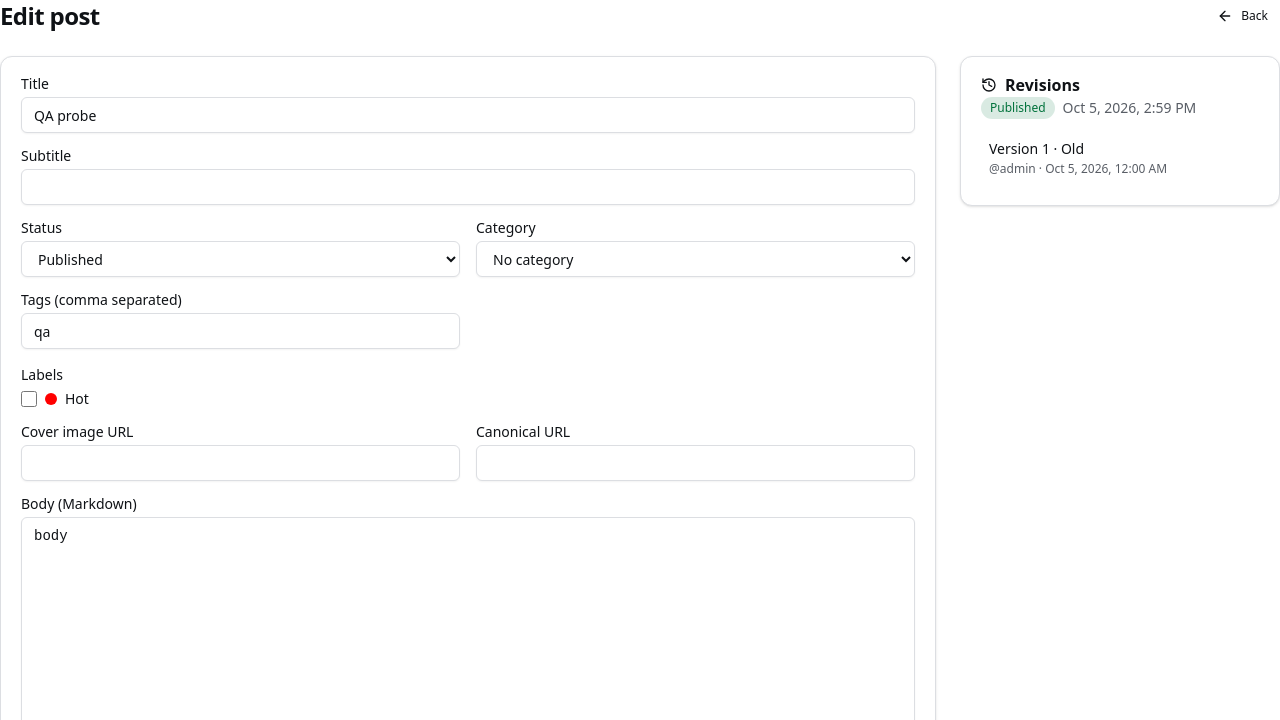
Test: PostEditorPage › edits, views a revision diff and restores it
This screenshot has width=1280, height=720.
expect the field showing "QA probe" is shown: met, box [21,97,915,133]
Click the button "Version 1 · Old @admin · Oct 5, 2026, 12:00 AM" at (1120, 158), box [981,131,1259,185]
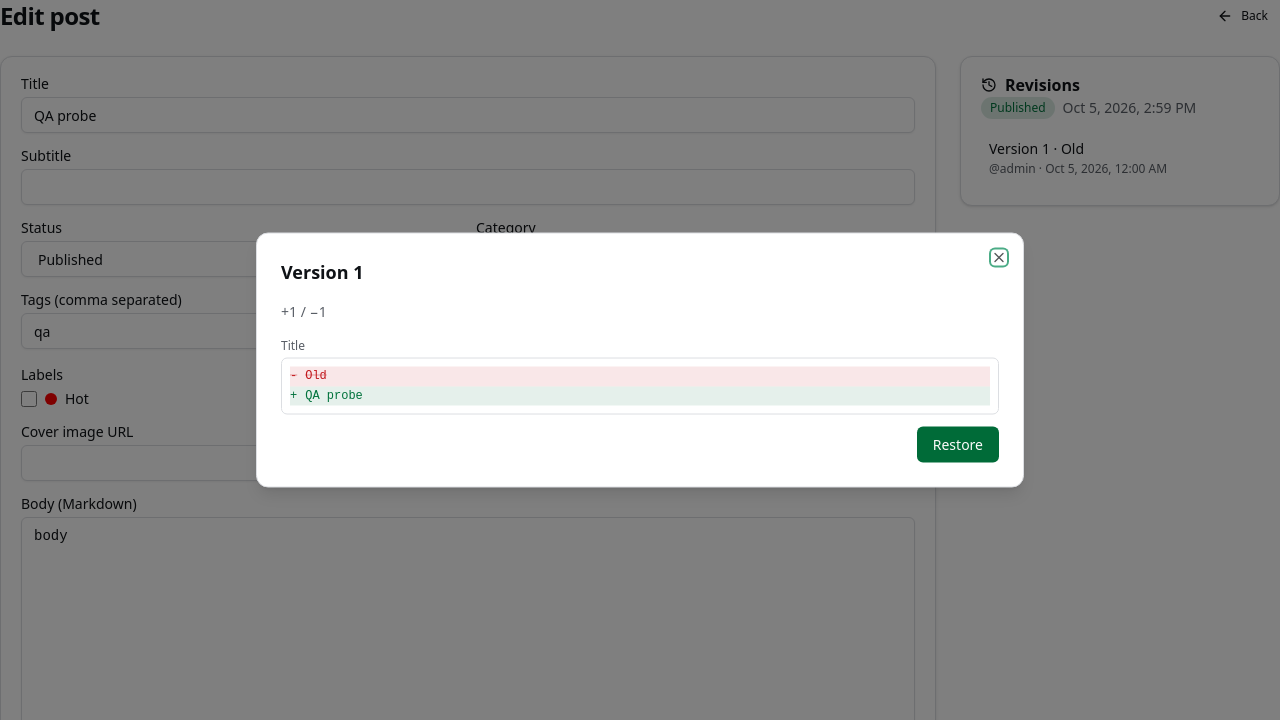
expect the text "+1 / −1" is shown: met, box [281,302,327,320]
Click the button "Restore" at (958, 444), box [917,426,999,462]
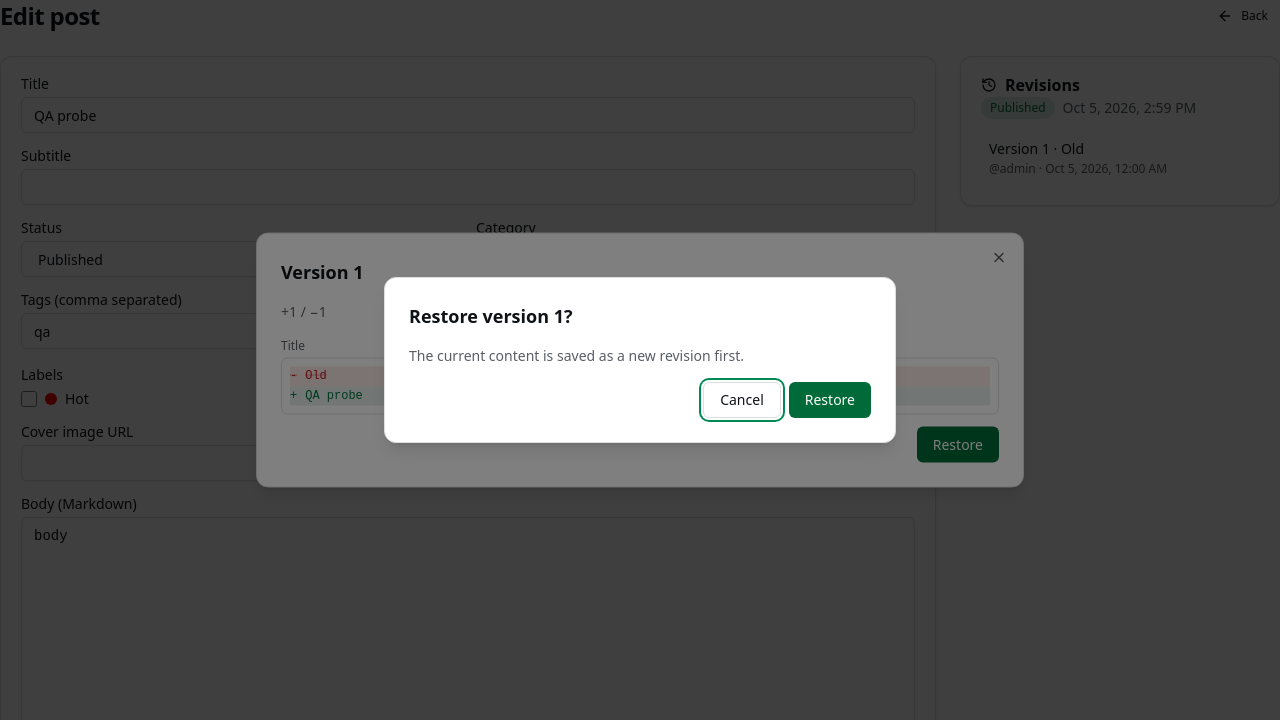
Click the button "Restore" at (830, 400), box [789,382,871,418]
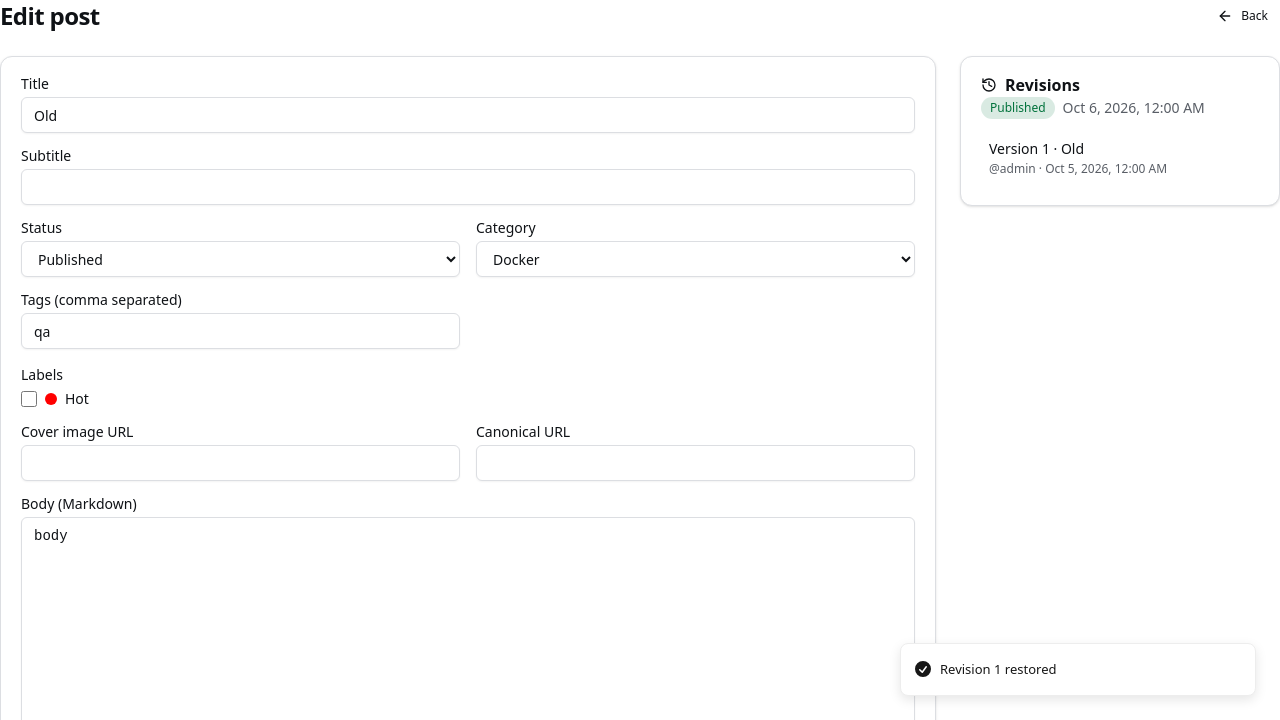
expect the field labelled "Title" holds "Old": met, box [21,97,915,133]
